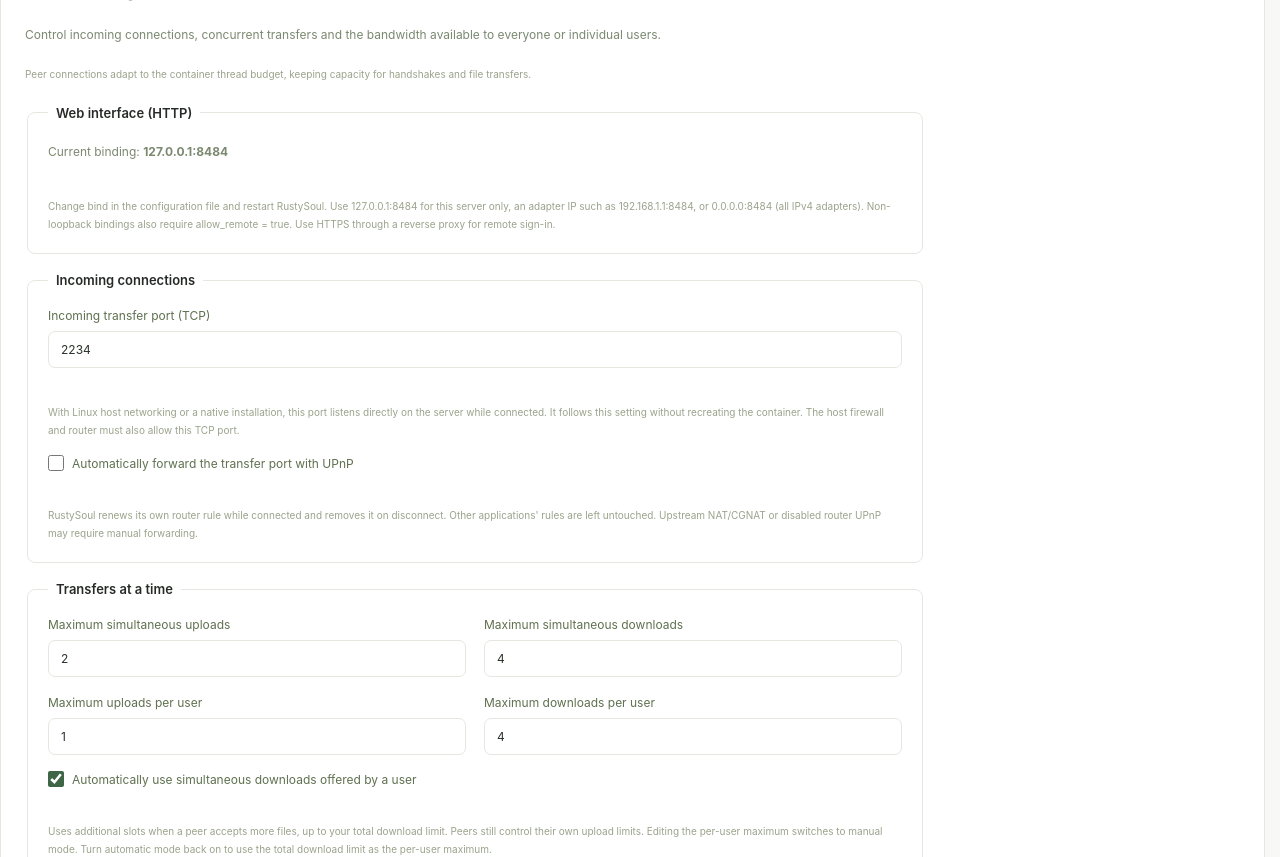
Test: edits and saves a manual per-user download maximum while automatic mode was enabled
Later steps or results of the test are not shown.
Replace the text in the number field labelled "Maximum downloads per user" with "2" at (693, 737), box x1=484 y1=718 x2=902 y2=755
(page scrolled)
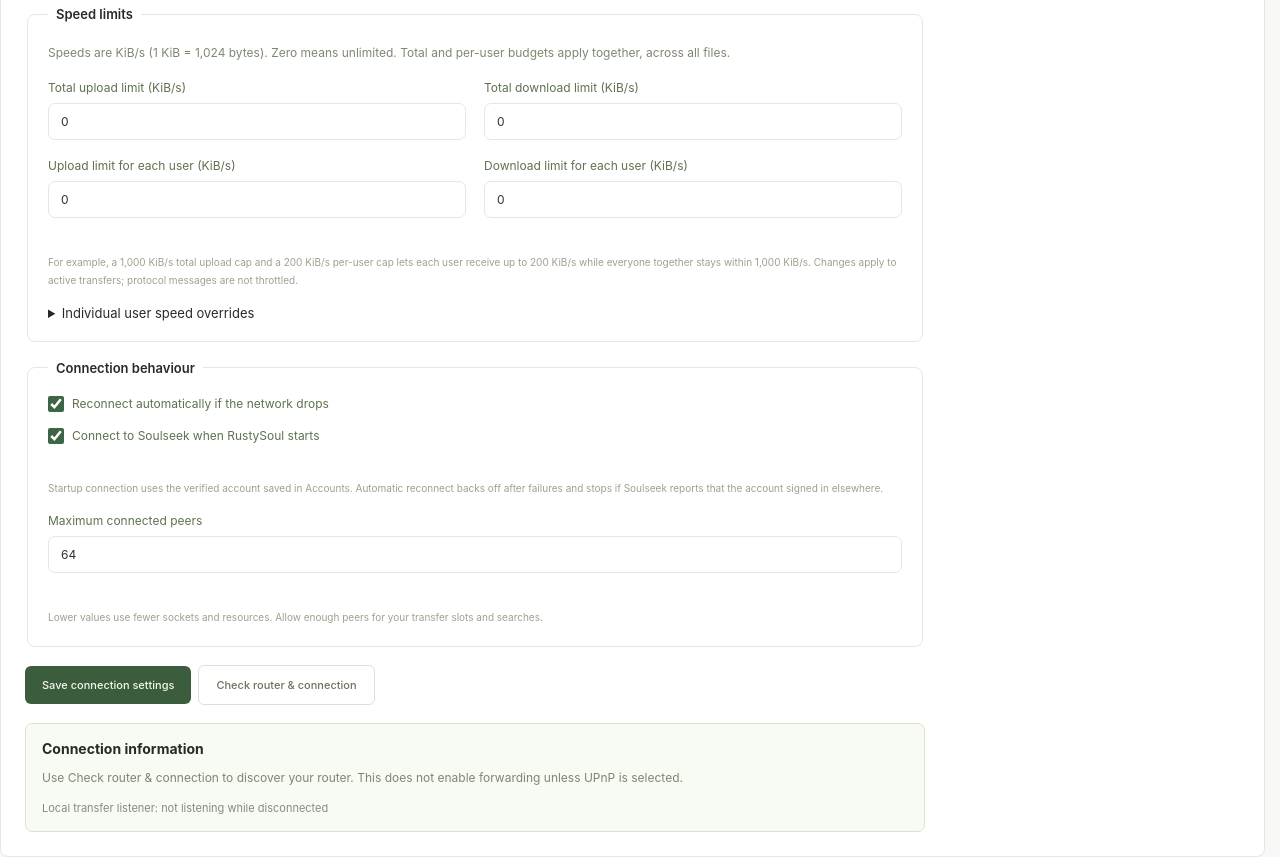
Click the button "Save connection settings" at (108, 685), box x1=25 y1=666 x2=191 y2=704
(page scrolled)
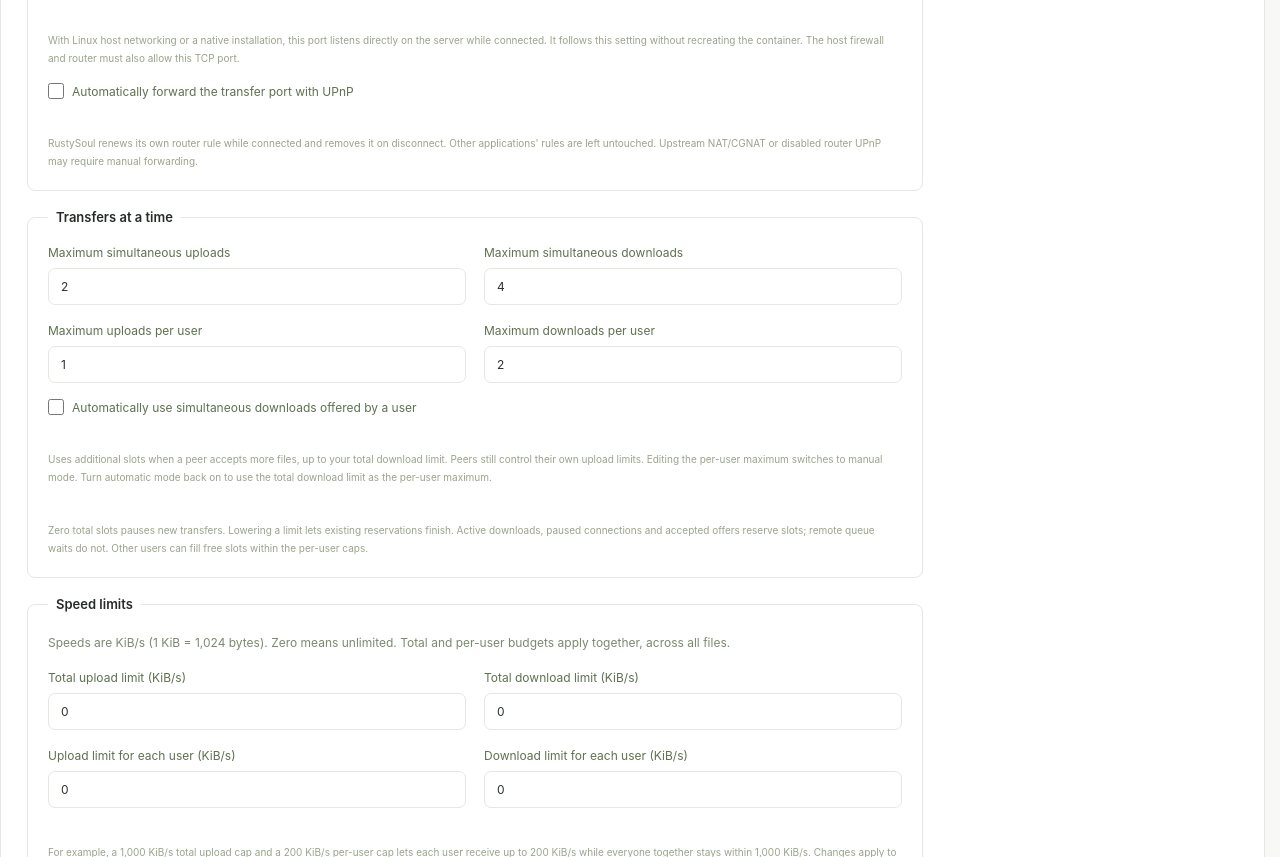
Click the checkbox labelled "Automatically use simultaneous downloads offered by a user" at (56, 407), box x1=48 y1=399 x2=64 y2=415
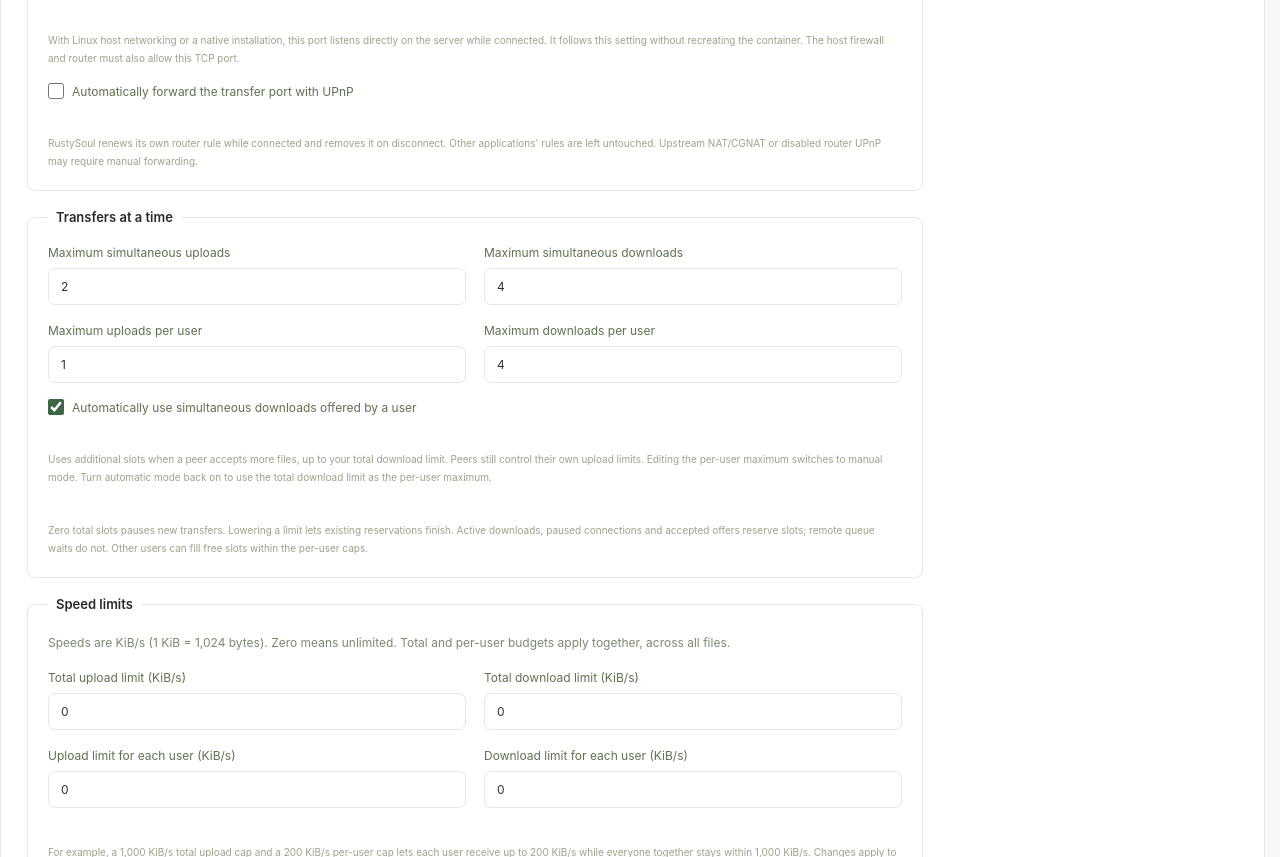
Expected: the number field labelled "Maximum downloads per user" holds "4", x1=484 y1=346 x2=902 y2=383
